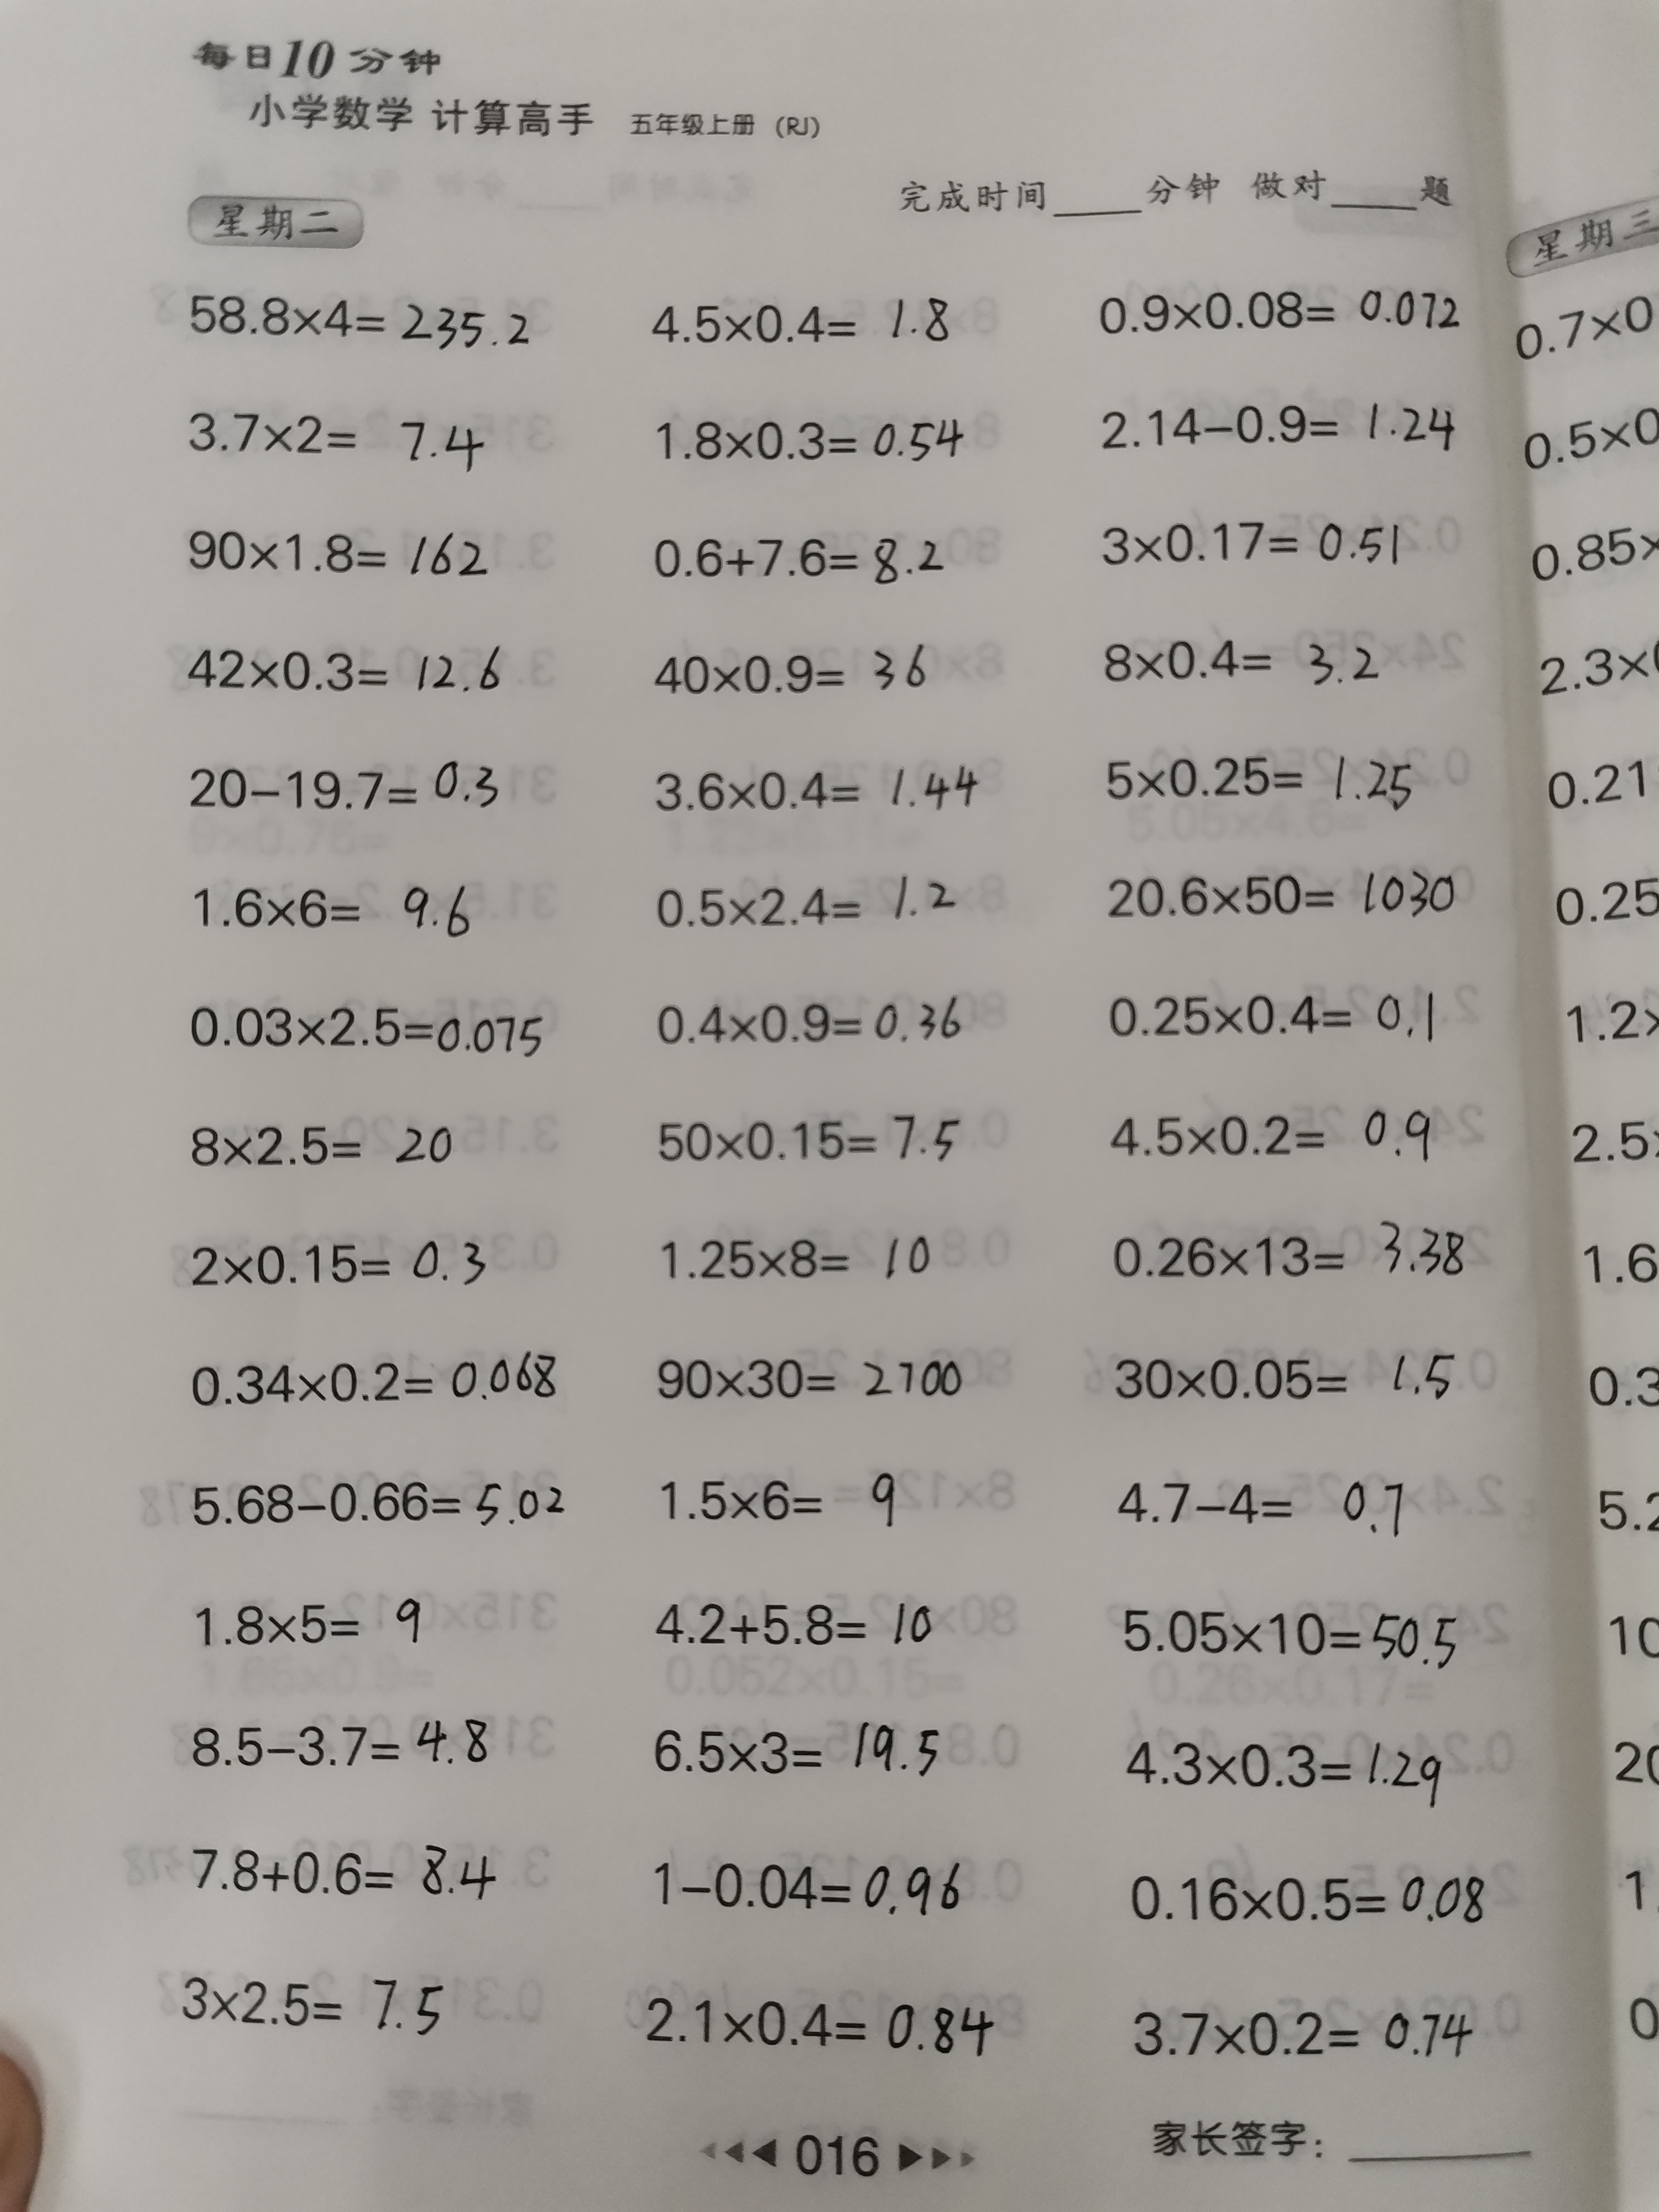equation: (1104, 1716, 1469, 1818), (1099, 1583, 1484, 1679), (1089, 1209, 1493, 1300), (160, 1460, 586, 1545), (1089, 1334, 1484, 1425), (1088, 1086, 1451, 1182), (623, 1984, 1012, 2072), (1082, 376, 1469, 463), (173, 983, 559, 1069), (1112, 1984, 1484, 2070), (1102, 1854, 1515, 1932), (170, 394, 507, 488), (632, 1838, 980, 1928), (171, 1342, 575, 1420), (166, 1696, 529, 1781), (1091, 855, 1478, 935), (1095, 734, 1438, 822), (1089, 1458, 1431, 1547), (166, 284, 551, 361), (640, 741, 997, 824), (641, 1338, 992, 1423), (1091, 977, 1460, 1056), (182, 1829, 518, 1913), (638, 1709, 958, 1796), (175, 629, 516, 709), (641, 1209, 951, 1298), (1089, 278, 1471, 348), (182, 864, 496, 950), (162, 1961, 470, 2046), (175, 1218, 502, 1298), (645, 857, 977, 935), (645, 1580, 955, 1663), (641, 979, 977, 1055), (634, 1458, 938, 1541), (641, 1100, 972, 1176), (171, 743, 509, 817), (173, 514, 496, 590), (647, 398, 975, 470), (1080, 505, 1423, 573), (643, 521, 961, 593), (638, 288, 966, 354), (640, 632, 942, 704), (1082, 627, 1388, 697), (160, 1583, 457, 1655), (177, 1112, 470, 1178)
